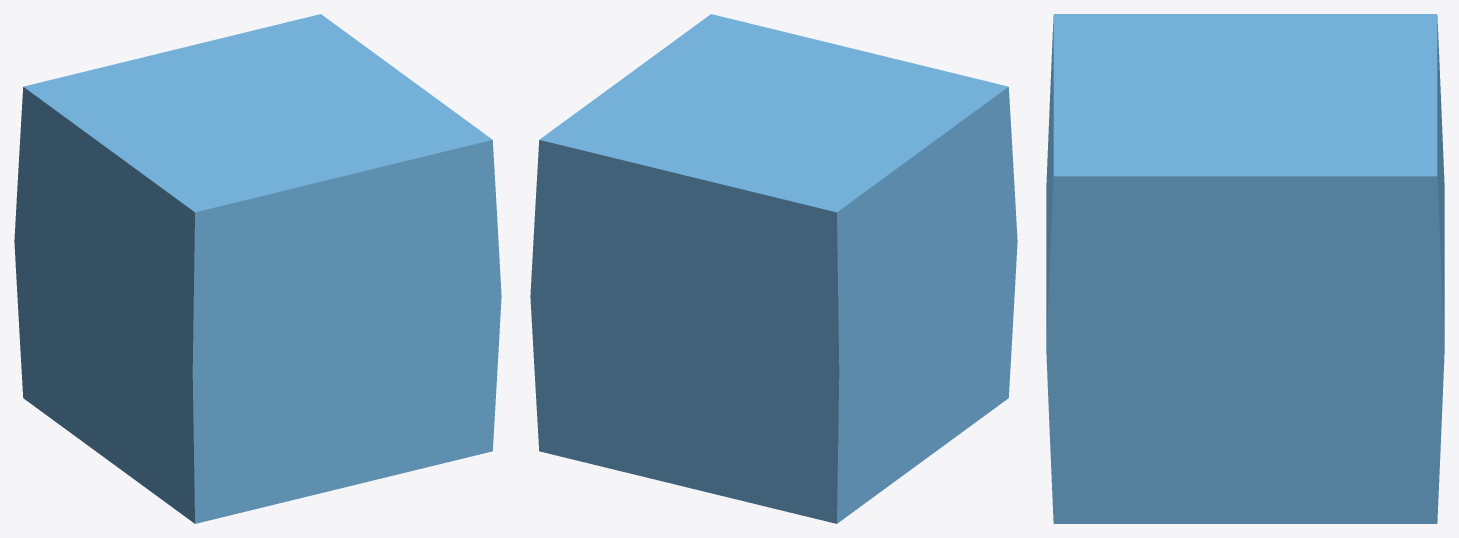
The model's file is morph.fbx.
3 renders of one model, left to right at view 1: azimuth 30°, elevation 25°; view 2: azimuth 150°, elevation 25°; view 3: azimuth 270°, elevation 25°, orthographic. The views are drawn at different scales.
Parts seen in each view (by area): view 1: Cube; view 2: Cube; view 3: Cube.
Boxes of the visible parts, x1,y1,x2,y2 form: Cube: (14,14,501,523); Cube: (530,14,1017,523); Cube: (1046,14,1444,523).
Size of the model in its own units: 145 by 140 by 145.
